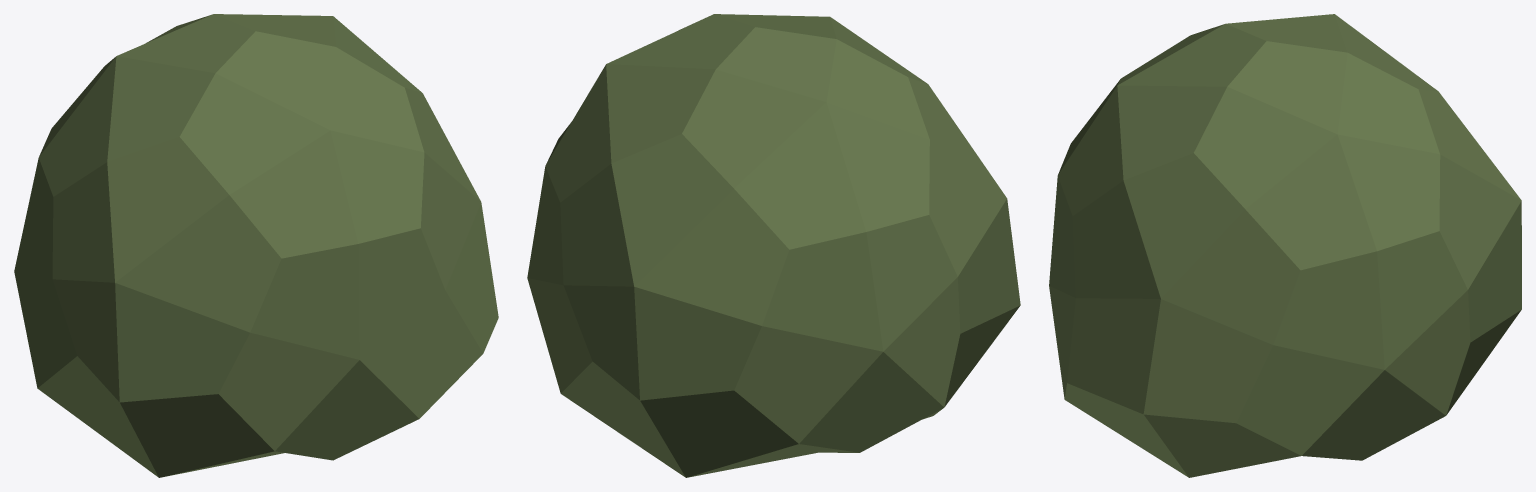
File: bush_1_v1.fbx
The picture shows the model from 3 angles, left to right: view 1: azimuth 30°, elevation 25°; view 2: azimuth 150°, elevation 25°; view 3: azimuth 270°, elevation 25°; orthographic projection.
Parts seen in each view (by area): view 1: bush_1; view 2: bush_1; view 3: bush_1.
Part boxes in pixels (x1,y1,x2,y2): bush_1: (14, 14, 498, 477); bush_1: (527, 14, 1020, 477); bush_1: (1049, 14, 1521, 477).
Size of the model in its own units: 2.1 by 1.87 by 2.09.
